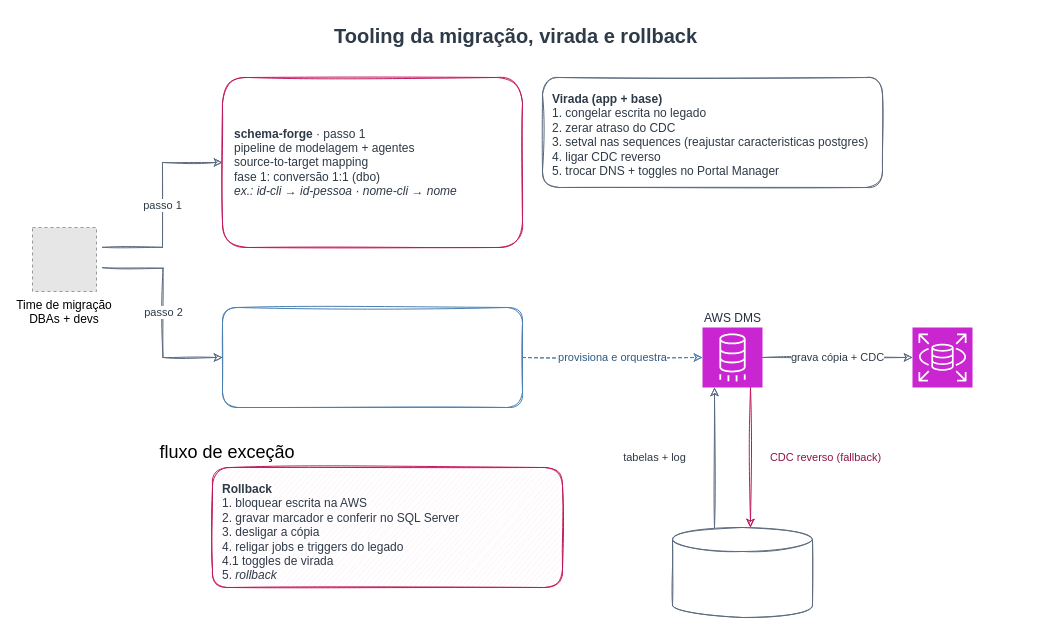
This 1050x635 diagram has some shape labels left out. Grey dashed boxes stand in for pictures. Here are the shapes that lost their labels. From the top down, the centre of each, then its label:
(372,357): data-devops-pipeline · passo 2 8 etapas: criação da base → monitoramento
(942,357): RDS PostgreSQL schemaapp
(742,572): SGNPRD SQL Server
